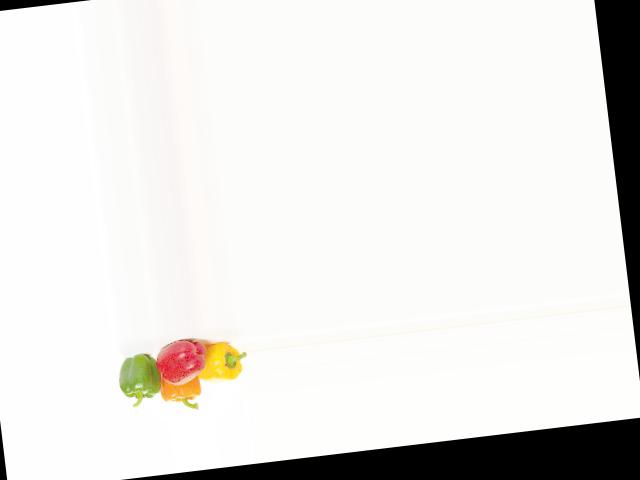bell_pepper: (115, 344, 165, 405)
